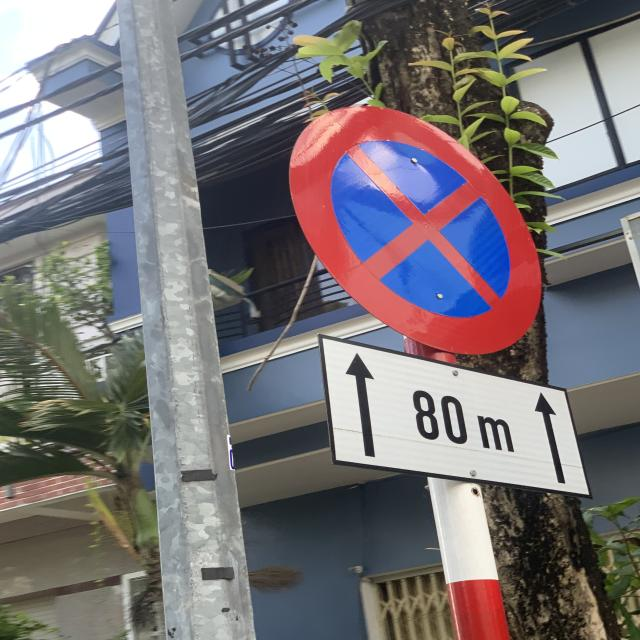Cam_Dung_Va_Dau_Xe: (286, 104, 543, 354)
